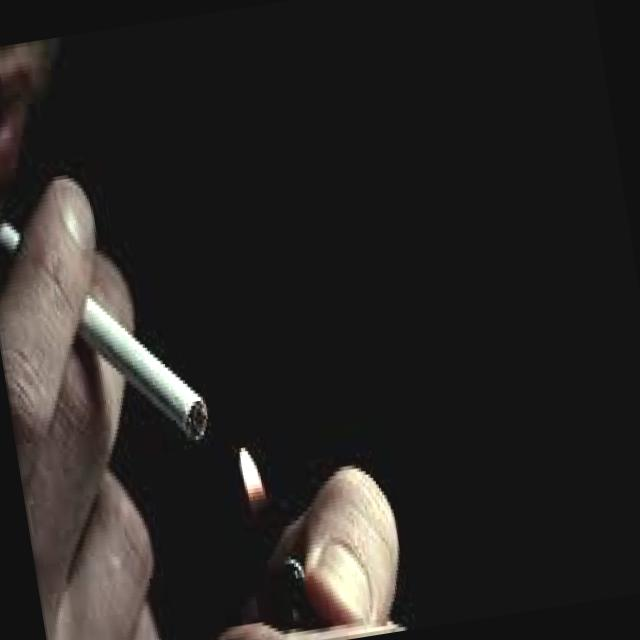smoke: (0, 194, 225, 472)
